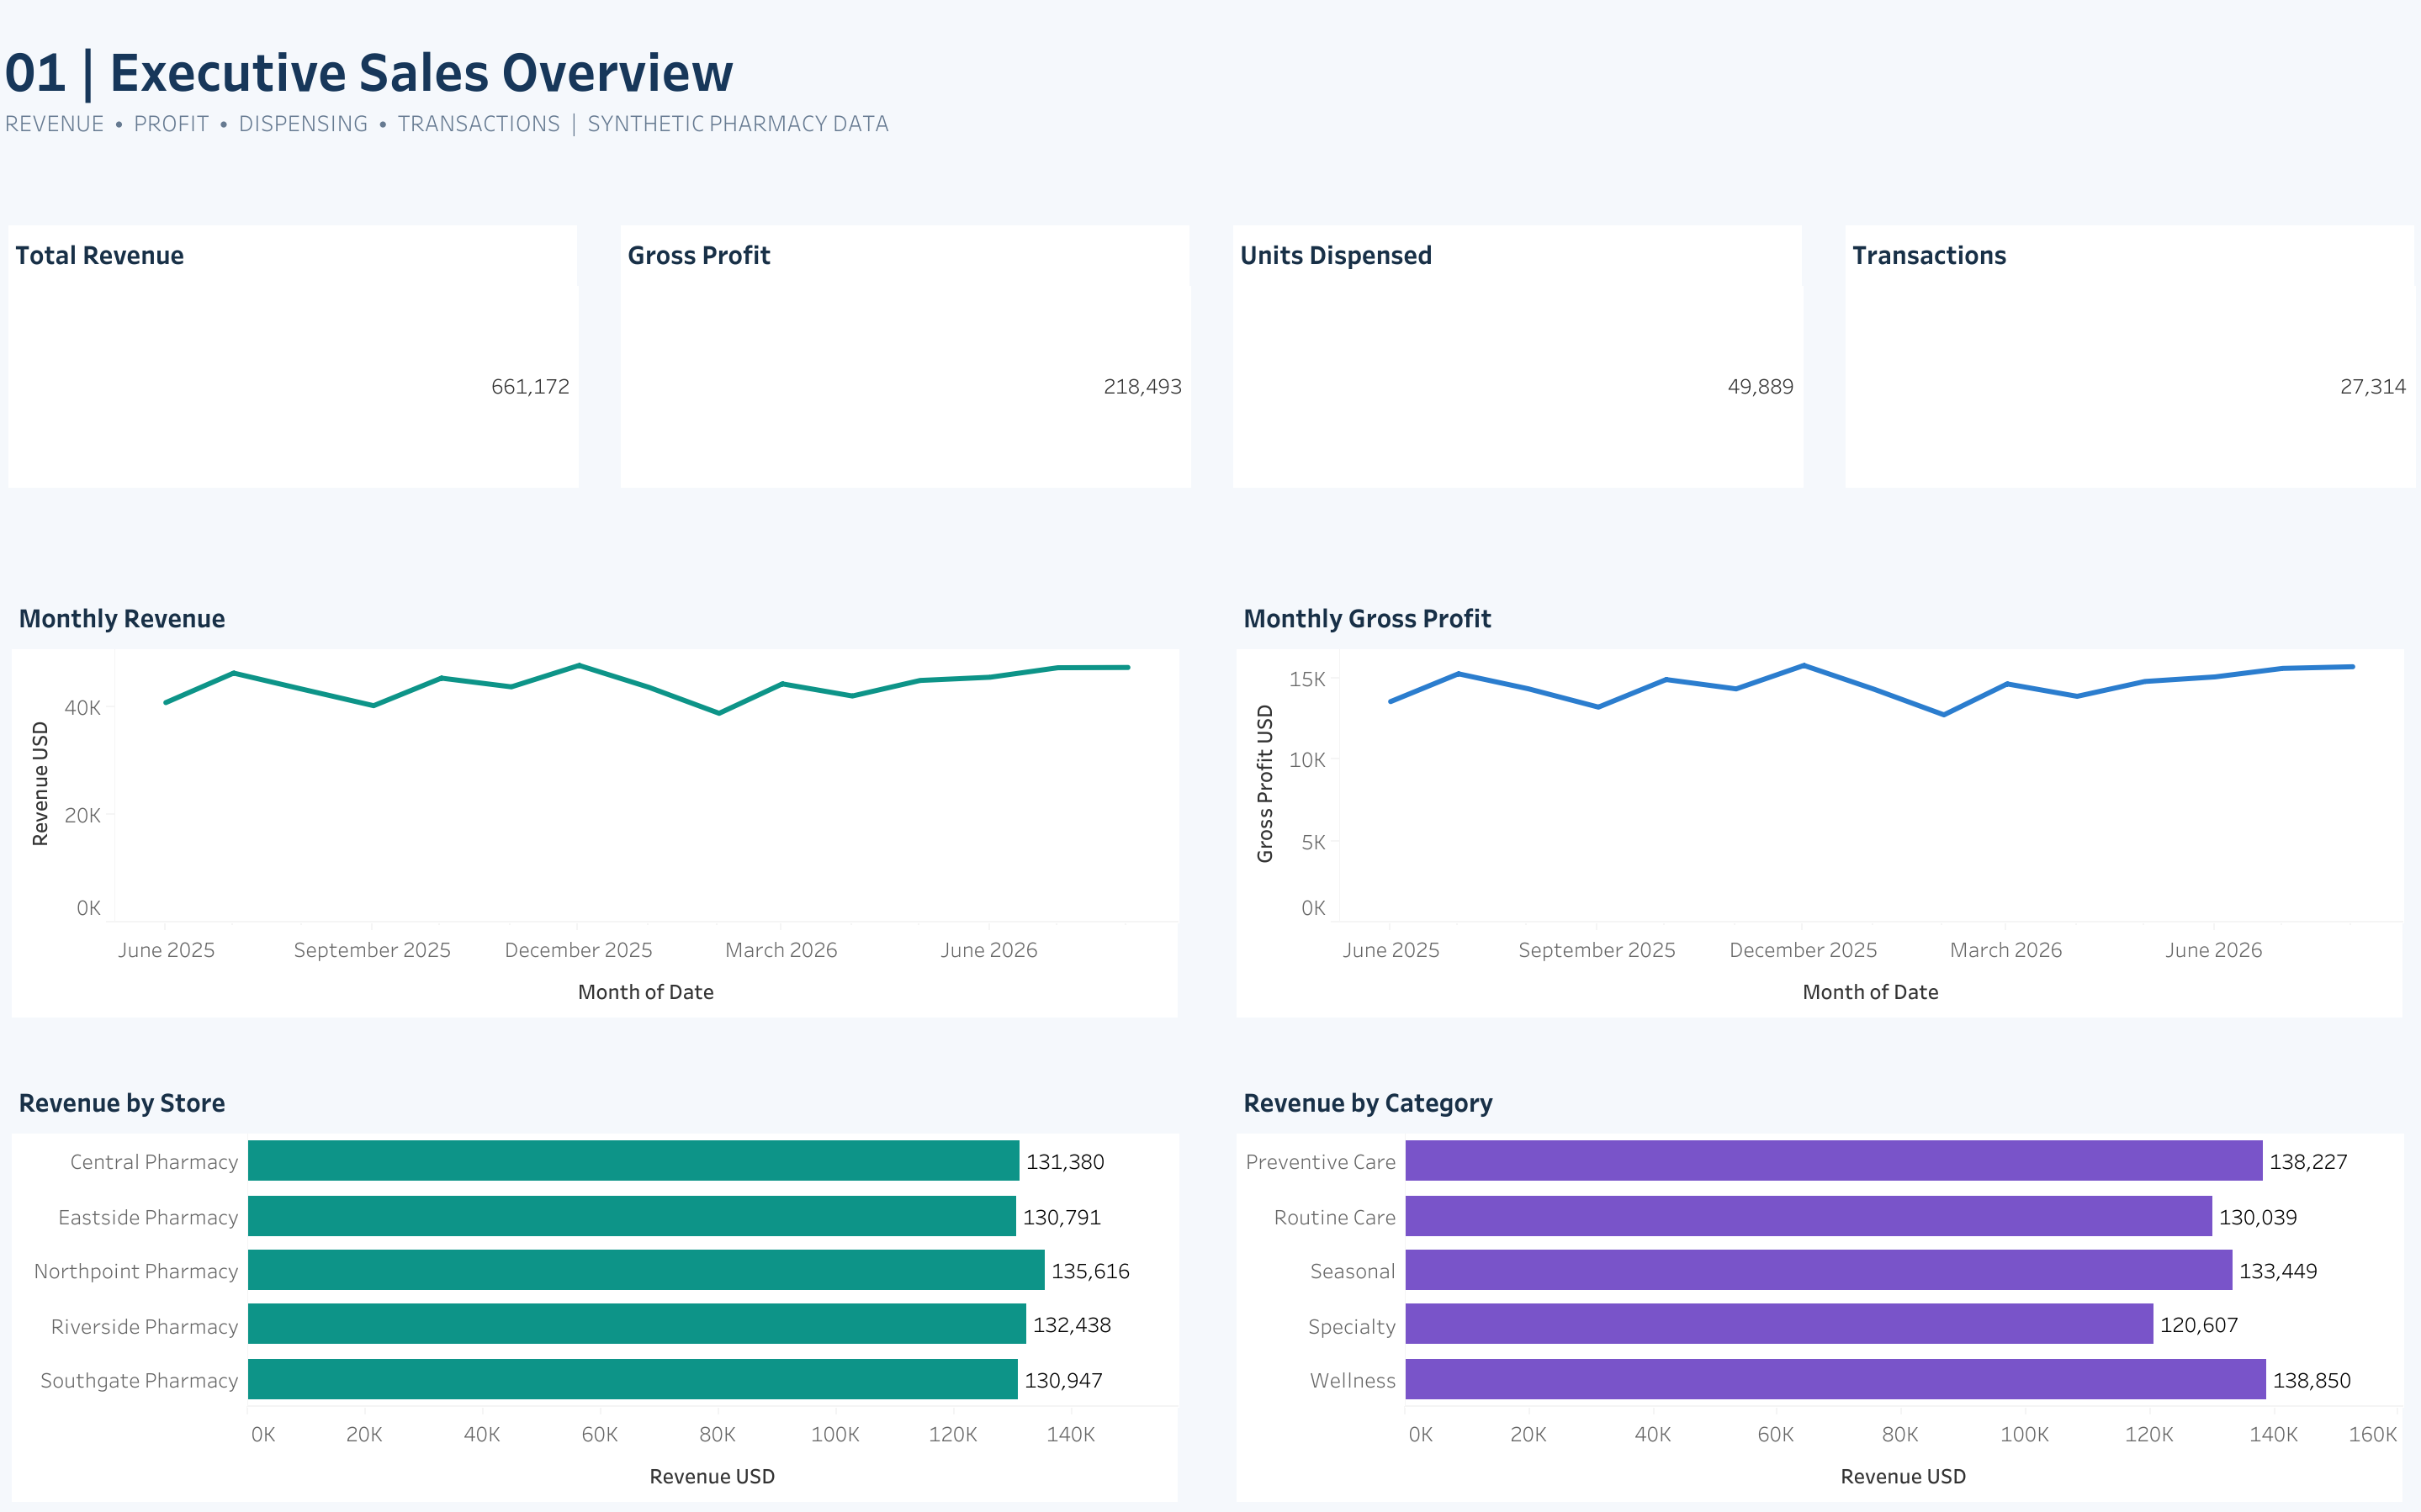

The dashboard page shown, as its layout file describes it:
{"tool":"tableau","page":{"name":"01 | Executive Sales Overview","canvas":[1440,900],"ordinal":0},"visuals":[{"type":"text","box":[0,0,1434.8,100.7]},{"type":"worksheet","title":"KPI | Total Revenue","mark":"Text","box":[0,128.6,348.2,165]},{"type":"worksheet","title":"KPI | Gross Profit","mark":"Text","box":[363.9,128.6,348.2,165]},{"type":"worksheet","title":"KPI | Units Dispensed","mark":"Text","box":[727.8,128.6,348.2,165]},{"type":"worksheet","title":"KPI | Transactions","mark":"Text","box":[1091.8,128.6,348.2,165]},{"type":"worksheet","title":"Trend | Monthly Revenue","mark":"Line","rows":["RevenueUSD"],"cols":["Date"],"box":[0,343.5,706.9,268.7]},{"type":"worksheet","title":"Trend | Monthly Gross Profit","mark":"Line","rows":["GrossProfitUSD"],"cols":["Date"],"box":[727.8,343.5,706.9,268.7]},{"type":"worksheet","title":"Stores | Revenue by Store","mark":"Bar","rows":["StoreName"],"cols":["RevenueUSD"],"box":[0,631.3,706.9,268.7]},{"type":"worksheet","title":"Categories | Revenue by Category","mark":"Bar","rows":["ProductCategory"],"cols":["RevenueUSD"],"box":[727.8,631.3,706.9,268.7]}]}

Visuals, with their boxes in screenshot pixels (x1, y1, x2, y2), scaled from the page's 1440x900 canvas onto the 2421x1512 screenshot:
text: [0, 0, 2413, 169]
"KPI | Total Revenue" worksheet (Text marks): [0, 216, 585, 494]
"KPI | Gross Profit" worksheet (Text marks): [612, 216, 1197, 494]
"KPI | Units Dispensed" worksheet (Text marks): [1224, 216, 1809, 494]
"KPI | Transactions" worksheet (Text marks): [1836, 216, 2420, 494]
"Trend | Monthly Revenue" worksheet (Line marks): [0, 577, 1189, 1028]
"Trend | Monthly Gross Profit" worksheet (Line marks): [1224, 577, 2412, 1028]
"Stores | Revenue by Store" worksheet (Bar marks): [0, 1060, 1189, 1511]
"Categories | Revenue by Category" worksheet (Bar marks): [1224, 1060, 2412, 1511]
